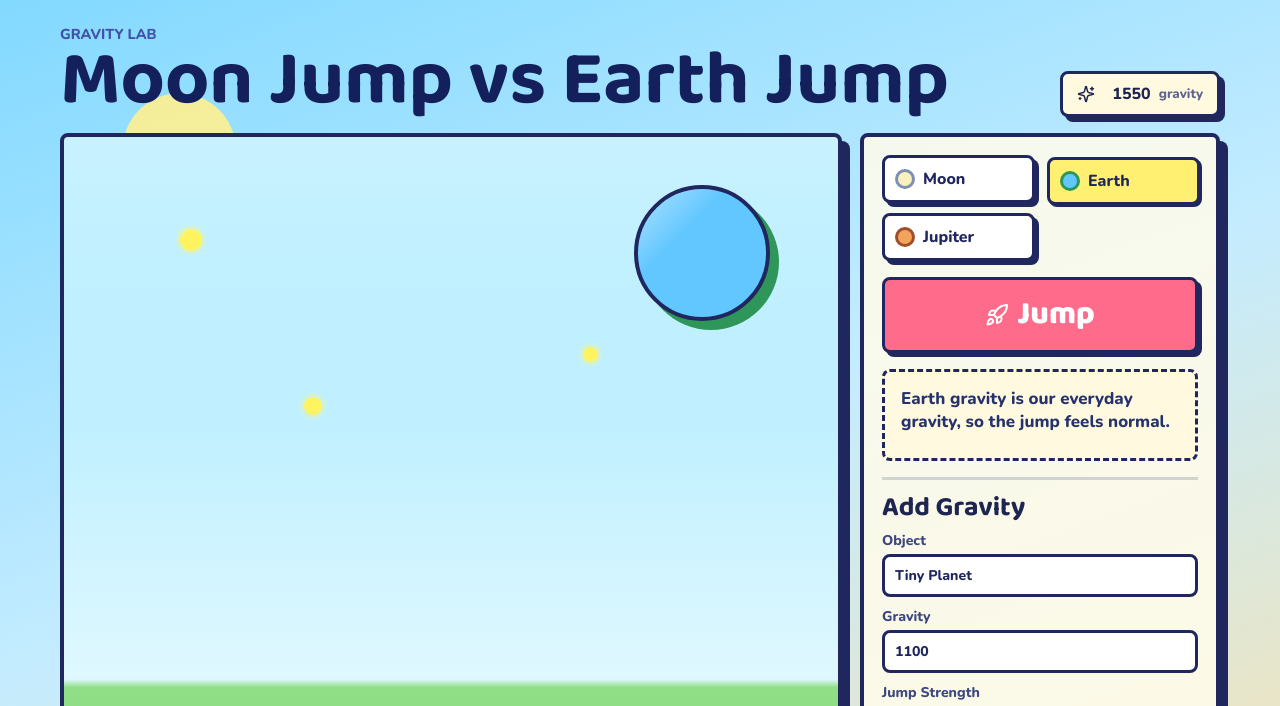
Test: Moon Jump vs Earth Jump › shows planet learning messages when selecting planets
Step 1. Click the button "Moon" → {"x": 958, "y": 179}, box [882, 155, 1035, 203]
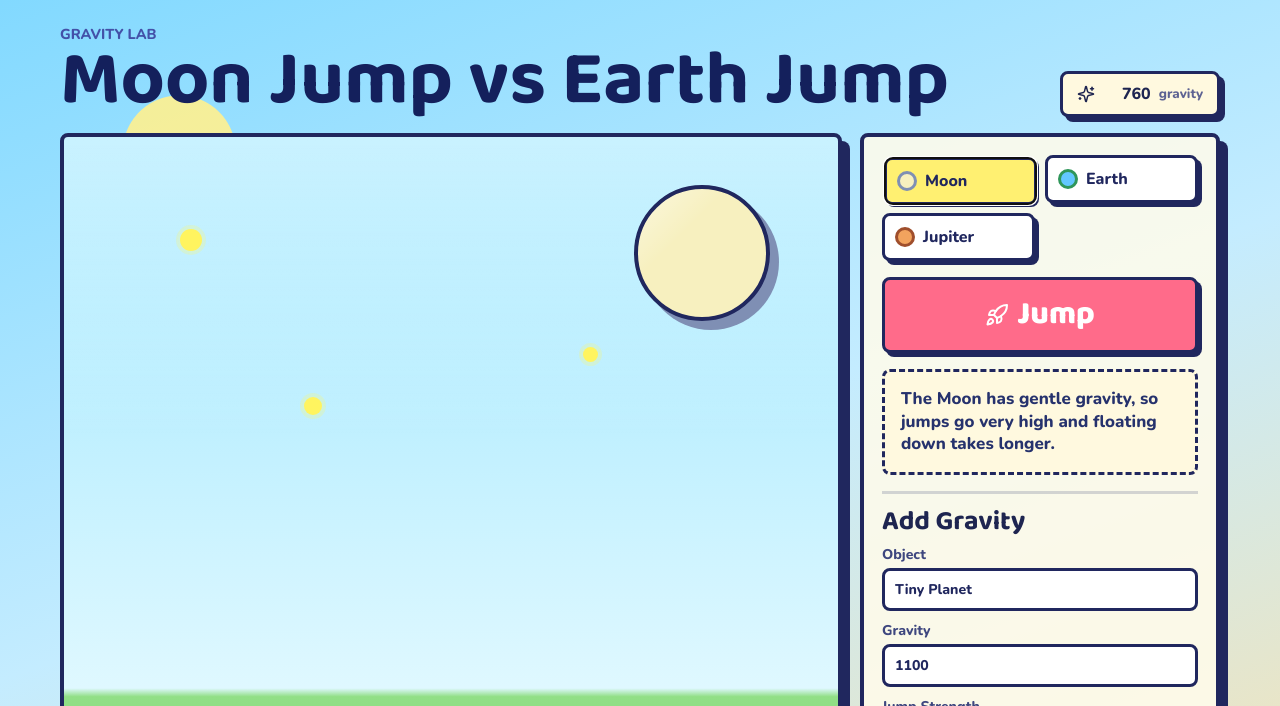
Expected: the text "gentle gravity" is shown, [901, 387, 1158, 455]
Step 2. Click the button "Jupiter" → {"x": 958, "y": 237}, box [882, 213, 1035, 261]
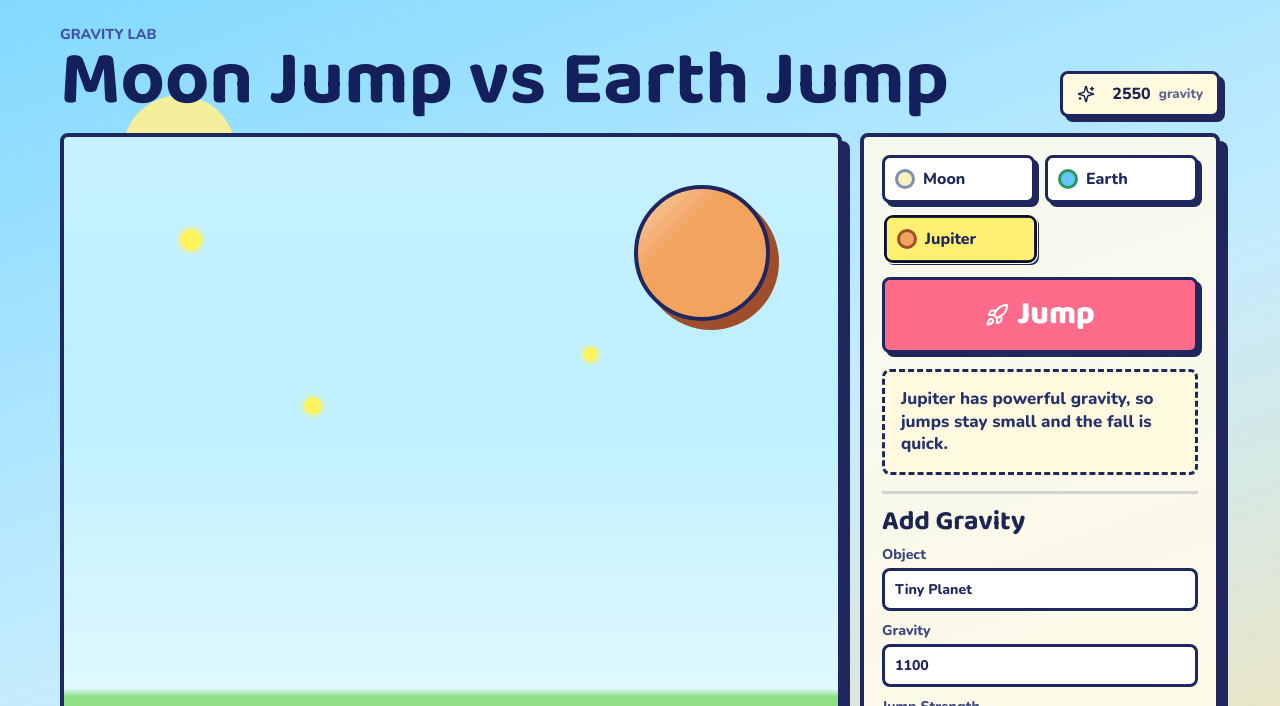
Expected: the text "powerful gravity" is shown, [901, 387, 1154, 455]
